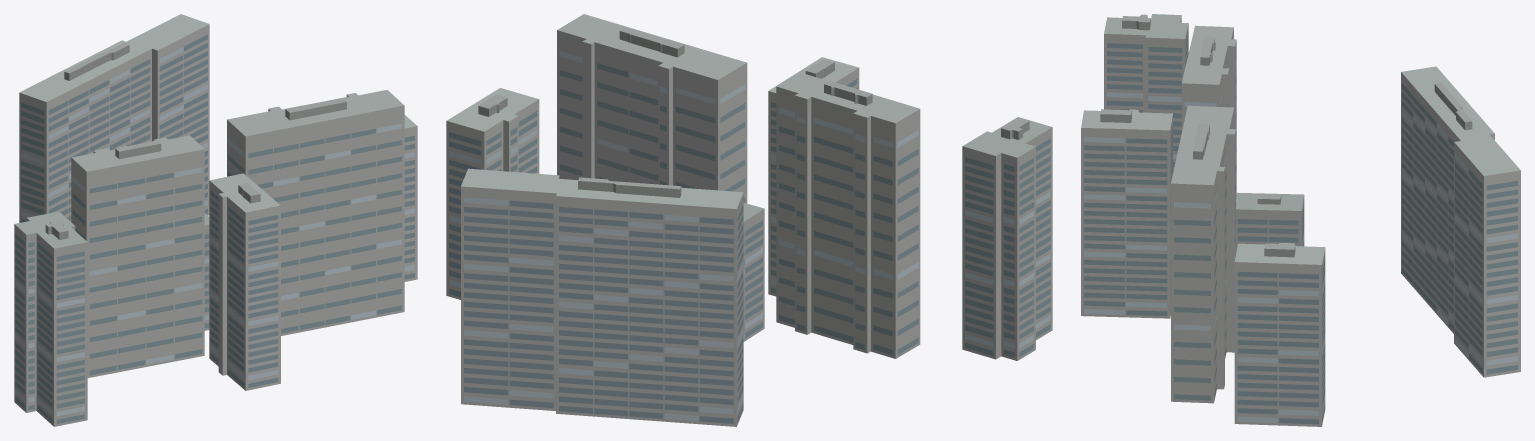
Rendered from apt-a13905003.glb.
The picture shows the model from 3 angles, left to right: view 1: azimuth 30°, elevation 25°; view 2: azimuth 150°, elevation 25°; view 3: azimuth 270°, elevation 25°; orthographic projection. The views are drawn at different scales.
Parts seen in each view (by area): view 1: apt-a13905003; view 2: apt-a13905003; view 3: apt-a13905003.
Part boxes in pixels (<box>): apt-a13905003: <box>14,14,417,426</box>; apt-a13905003: <box>446,14,1052,426</box>; apt-a13905003: <box>1081,14,1520,426</box>.
Bounding box in the file's own units: 145 × 68 × 120.
